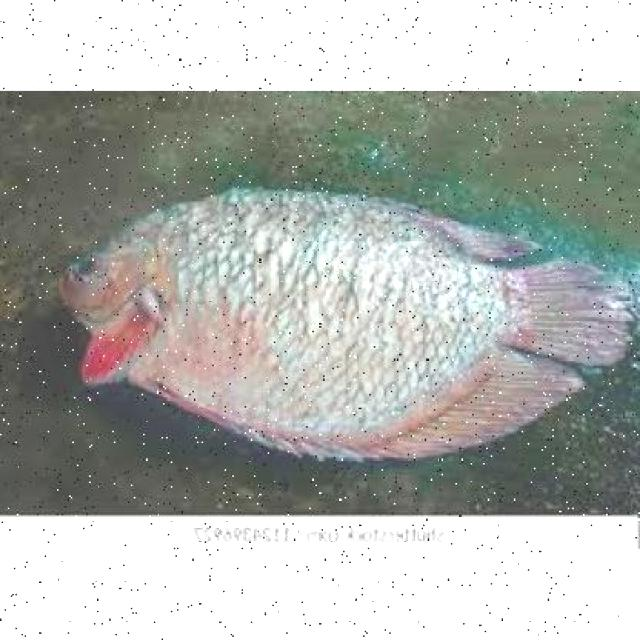gurame: (59, 191, 618, 458)
